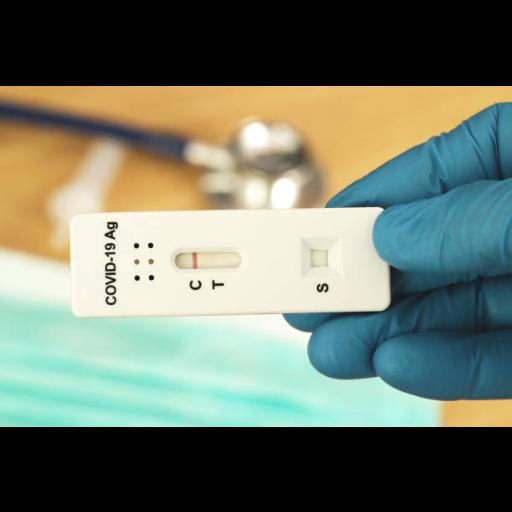Neg: (71, 206, 391, 315)
